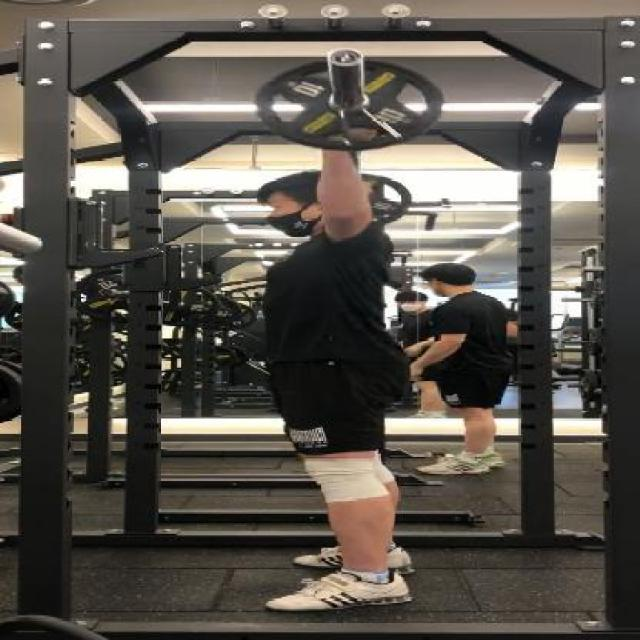Barbell: (328, 46, 368, 69)
